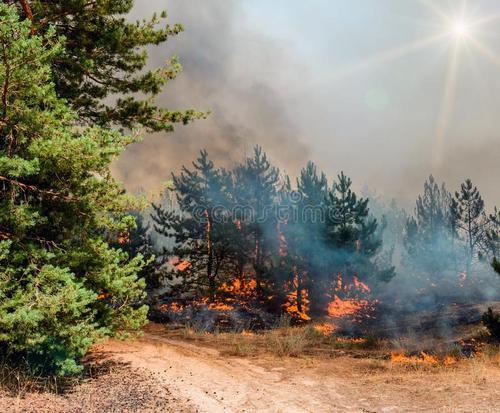fire: (206, 264, 377, 321)
smoke: (137, 102, 292, 171), (384, 220, 497, 313), (264, 189, 382, 261)
